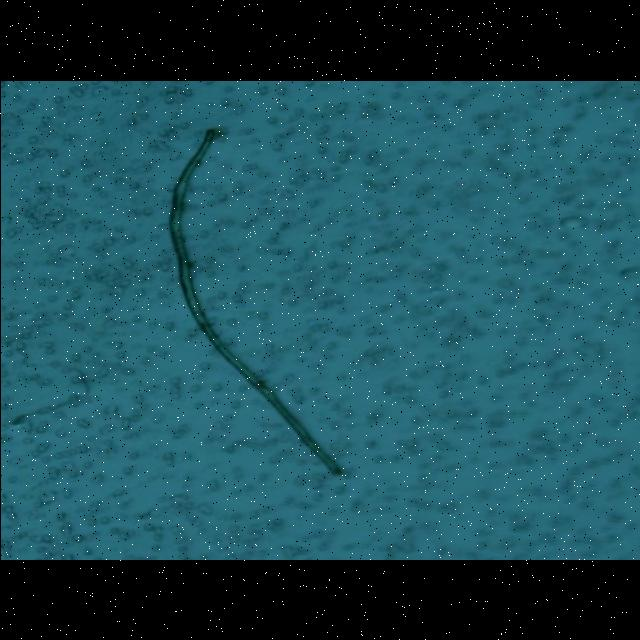Fibre: (164, 126, 346, 476)
